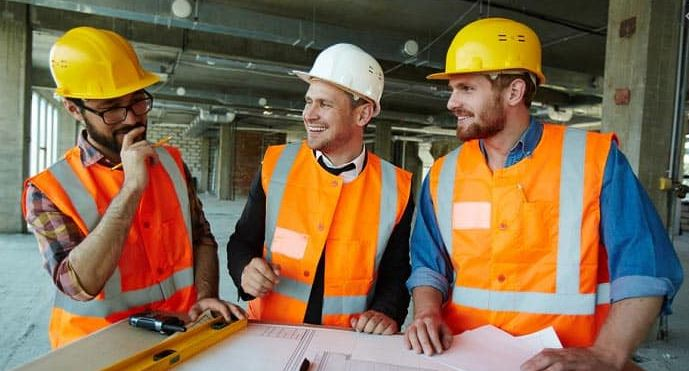Safety Helmet: (39, 19, 173, 174), (424, 12, 550, 154), (282, 25, 389, 171)
